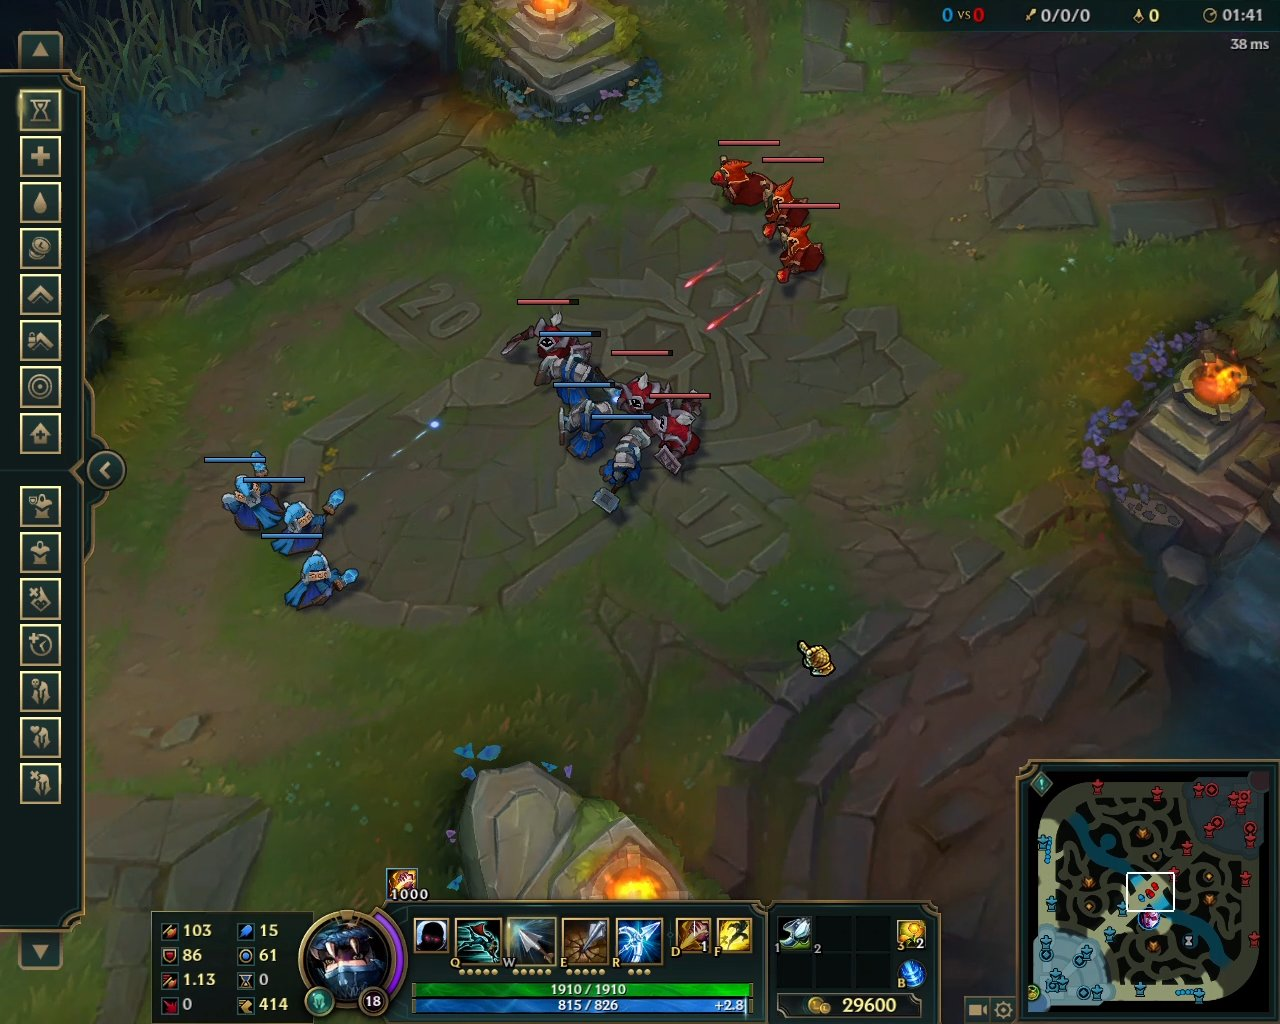EnemyMinion: (643, 387, 709, 482), (502, 297, 581, 376), (608, 345, 678, 430), (774, 203, 839, 285), (761, 157, 827, 236), (709, 139, 781, 212)
